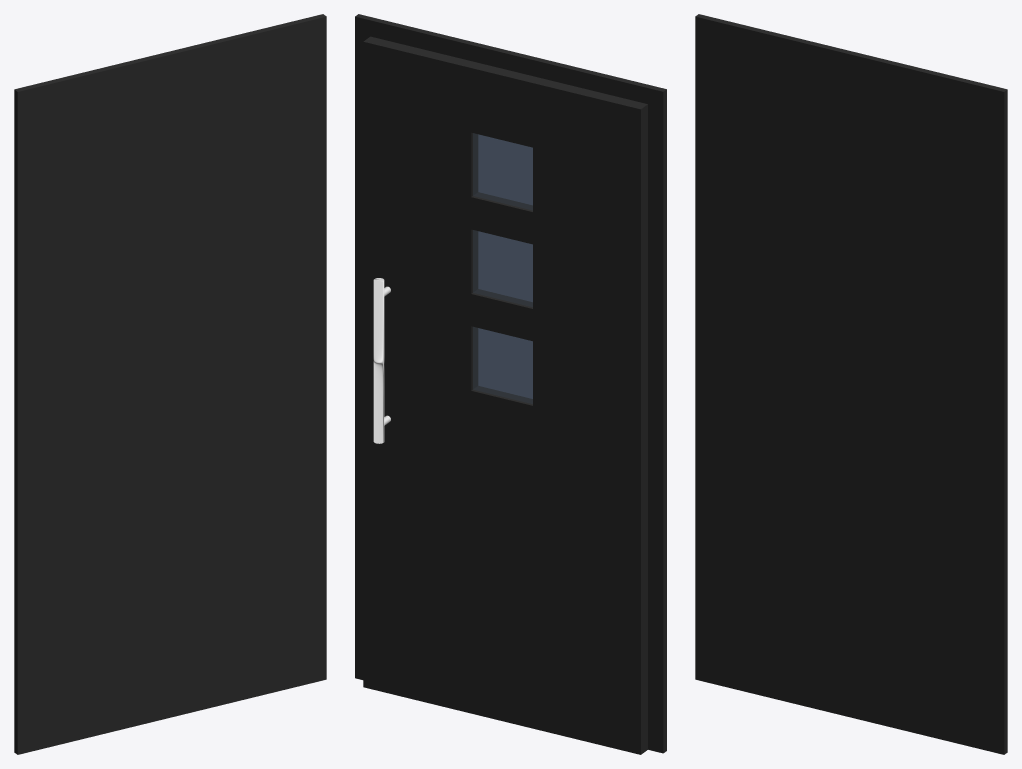
Rendered from house_doors.glb.
3 views of the same model, side by side, from view 1: azimuth 30°, elevation 25°; view 2: azimuth 150°, elevation 25°; view 3: azimuth 330°, elevation 25° (orthographic).
Visible parts, largest first — view 1: Doors; view 2: Doors; view 3: Doors.
Boxes of the visible parts, left/top/right/bottom form: Doors: left=14, top=14, right=326, bottom=754; Doors: left=355, top=14, right=666, bottom=754; Doors: left=695, top=14, right=1007, bottom=754.
Bounding box in the file's own units: 100 × 205 × 12.5.
